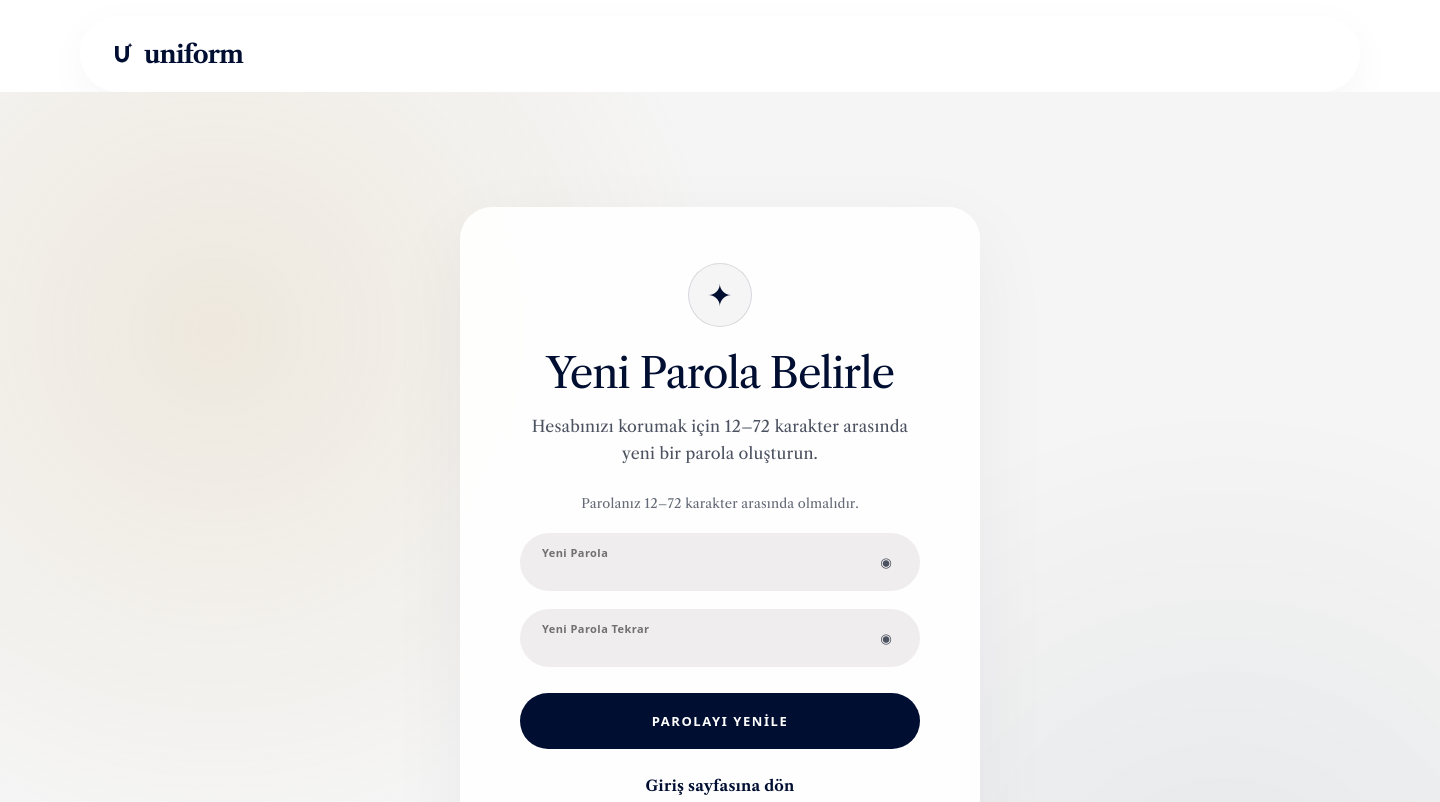
Test: password recovery and security pages › shows in-app validation for a too-short password and does not submit
Type "short" into the password field labelled "Yeni Parola" at (720, 562), box [520,533,920,591]
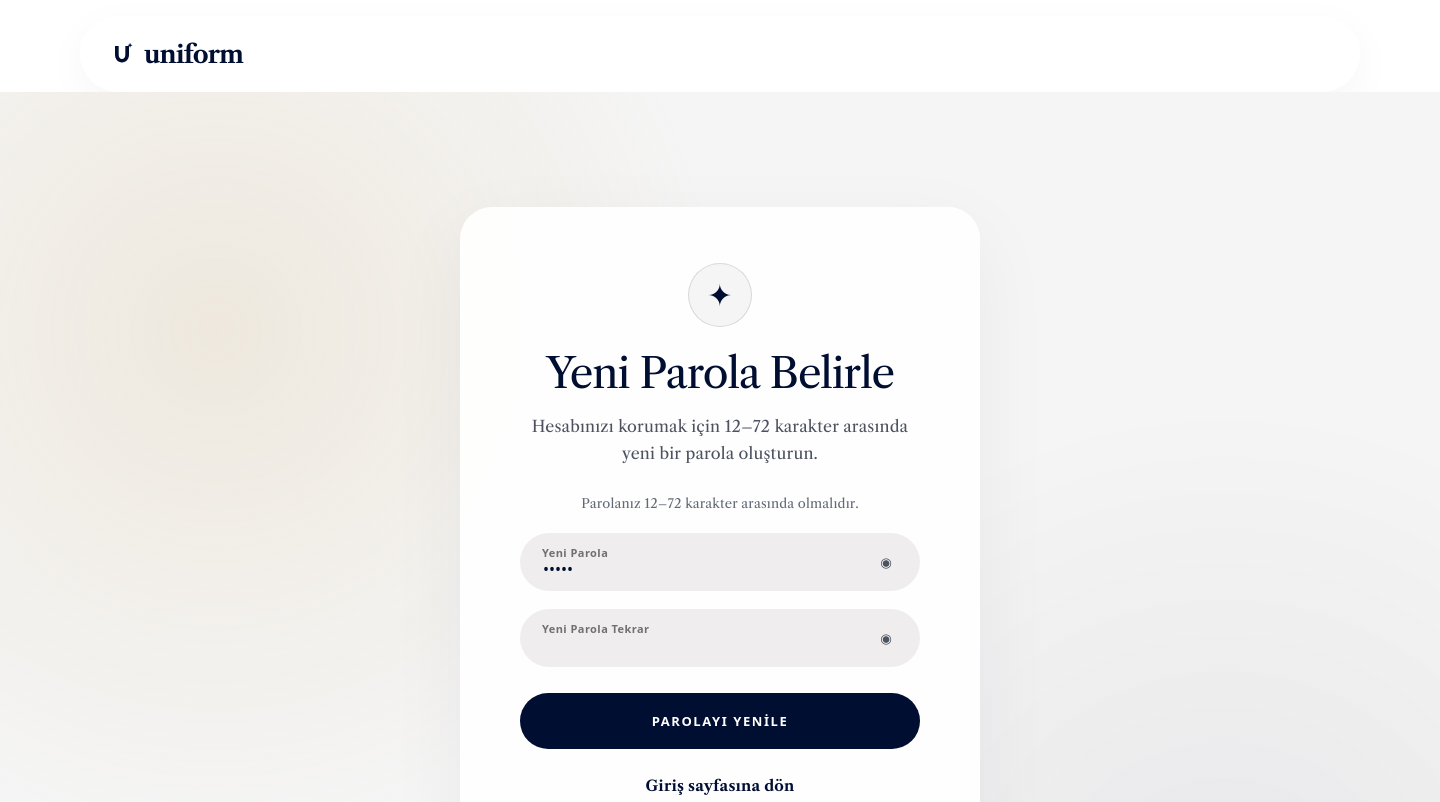
Type "short" into the password field labelled "Yeni Parola Tekrar" at (720, 638), box [520,609,920,667]
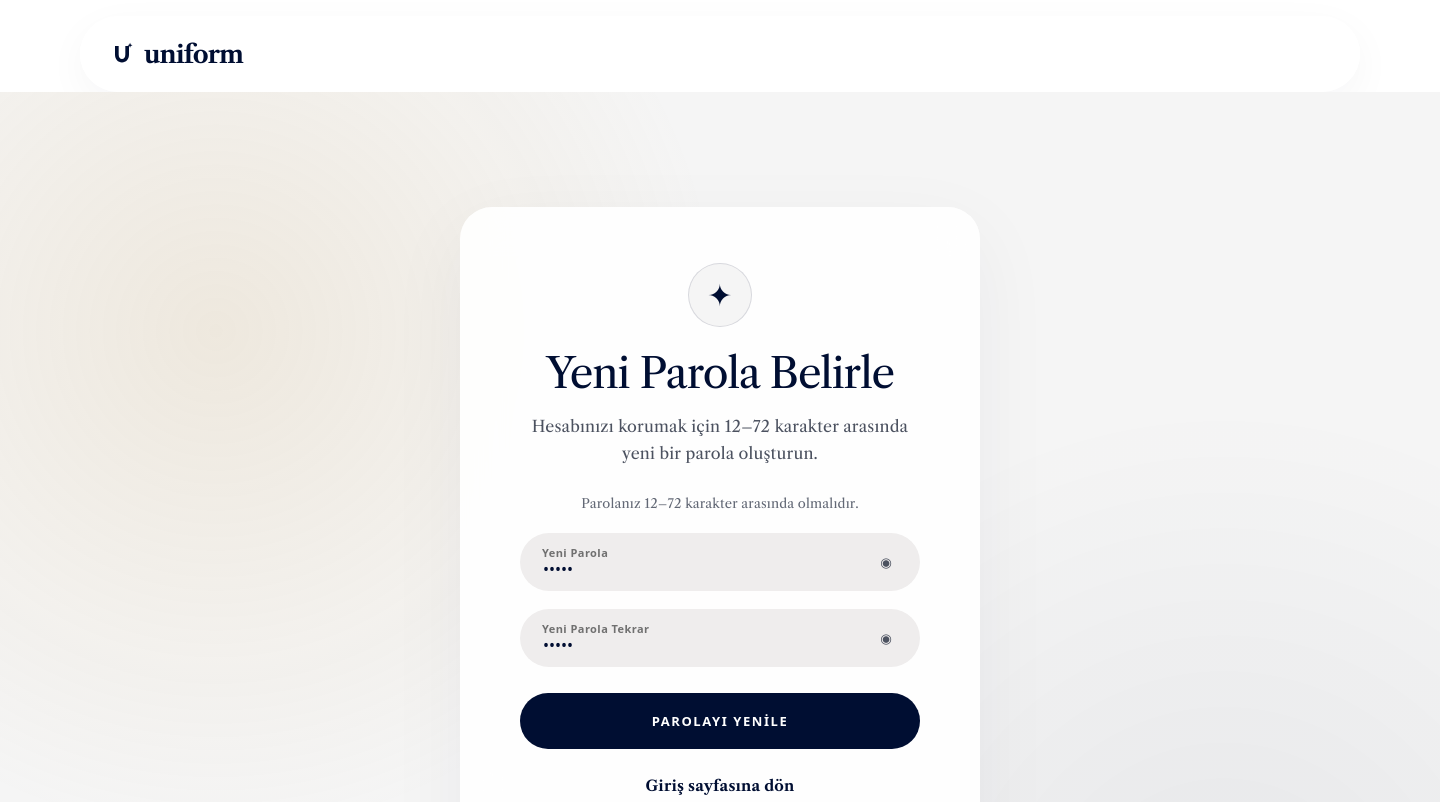
Click the button "Parolayı Yenile" at (720, 721), box [520,693,920,749]
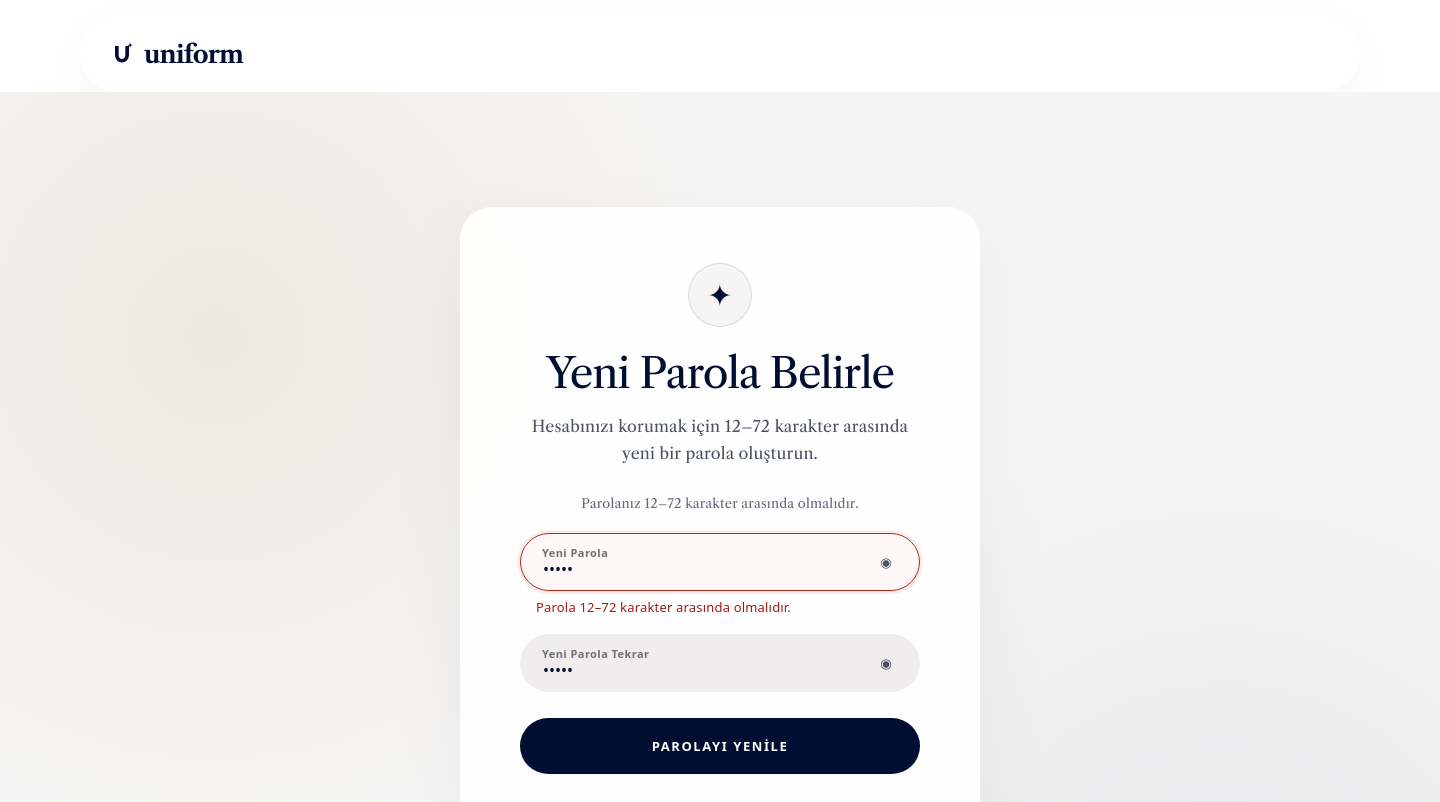
Check: the text "Parola 12–72 karakter arasında olmalıdır." is shown, box [536,598,791,616]
